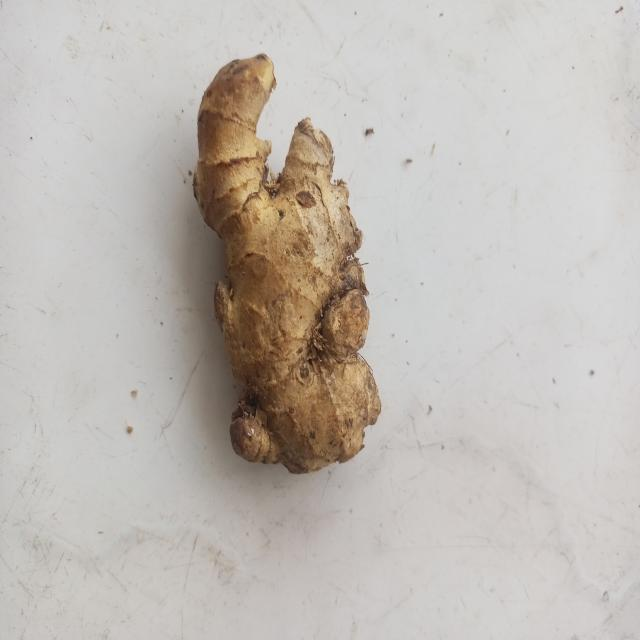ginger: (193, 54, 378, 458)
